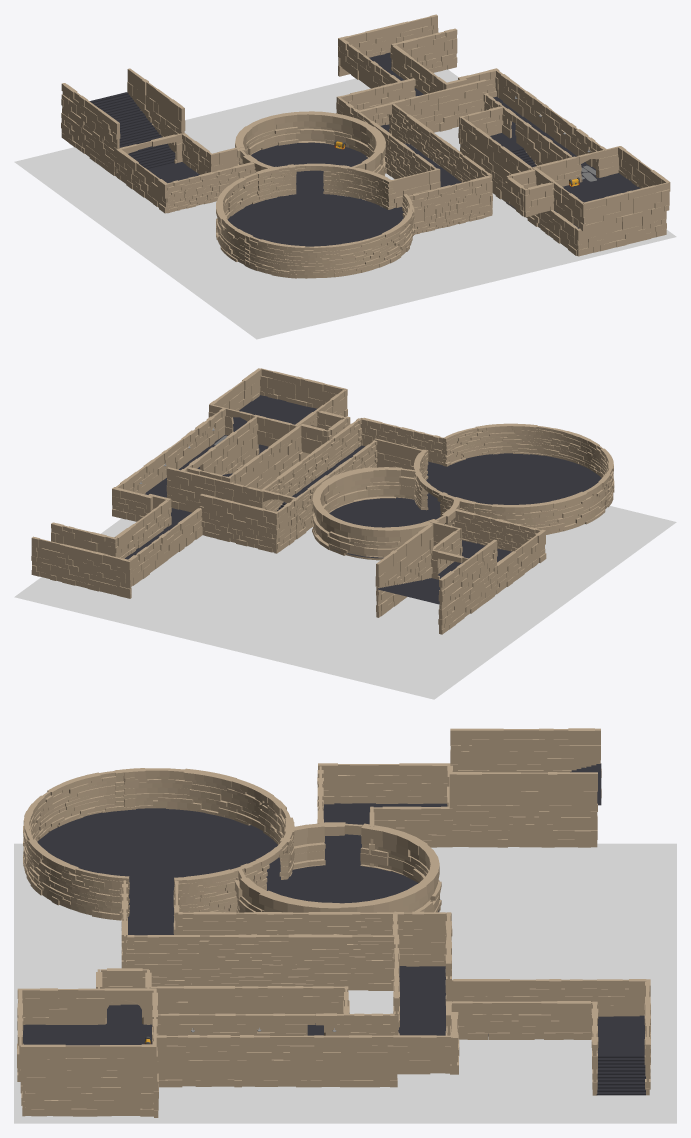
The model's file is area_0005.glb.
3 renders of one model, top to bottom at view 1: azimuth 30°, elevation 25°; view 2: azimuth 150°, elevation 25°; view 3: azimuth 270°, elevation 25°, orthographic. The views are drawn at different scales.
Parts seen in each view (by area): view 1: Plane, Circle.001, Wall.028, Wall.025, Wall.027, Wall.029, Wall.035, Circle.002, Wall.001, Wall.008, Wall.026, Wall.003 (+28 smaller); view 2: Plane, Circle.001, Wall.025, Wall.028, Wall.016, Wall.026, Wall.035, Wall.004, Wall.017, Wall.003, Wall.001, Wall.008 (+22 smaller); view 3: Plane, Circle.001, Wall.003, Wall.001, Wall.017, Wall.025, Wall.028, Wall.002, Wall.026, Wall.035, Wall.012, Wall.036 (+23 smaller).
Boxes of the visible parts, x1,y1,x2,y2 form: Plane: [14, 69, 676, 339]; Circle.001: [227, 192, 403, 246]; Wall.028: [244, 194, 414, 278]; Wall.025: [235, 111, 385, 175]; Wall.027: [255, 163, 393, 209]; Wall.029: [409, 175, 492, 234]; Wall.035: [61, 83, 120, 176]; Circle.002: [251, 142, 367, 200]; Wall.001: [495, 70, 606, 168]; Wall.008: [389, 79, 486, 134]; Wall.026: [216, 167, 291, 264]; Wall.003: [389, 104, 492, 213]; Plane: [14, 506, 676, 699]; Circle.001: [424, 453, 601, 519]; Wall.025: [312, 467, 460, 560]; Wall.028: [442, 423, 614, 507]; Wall.016: [31, 536, 131, 598]; Wall.026: [441, 475, 609, 534]; Wall.035: [438, 539, 497, 634]; Wall.004: [199, 494, 278, 552]; Wall.017: [375, 524, 433, 617]; Wall.003: [259, 418, 362, 511]; Wall.001: [115, 407, 226, 493]; Wall.008: [166, 467, 264, 512]; Plane: [14, 843, 676, 1123]; Circle.001: [37, 808, 285, 914]; Wall.003: [126, 934, 393, 990]; Wall.001: [155, 1035, 452, 1074]; Wall.017: [449, 772, 597, 847]; Wall.025: [234, 822, 441, 912]; Wall.028: [23, 769, 129, 920]; Wall.002: [154, 1013, 397, 1087]; Wall.026: [122, 768, 294, 870]; Wall.035: [450, 728, 601, 797]; Wall.012: [446, 1001, 597, 1039]; Wall.036: [151, 986, 346, 1022].
Bounding box in the file's own units: 100 × 21.34 × 100.
